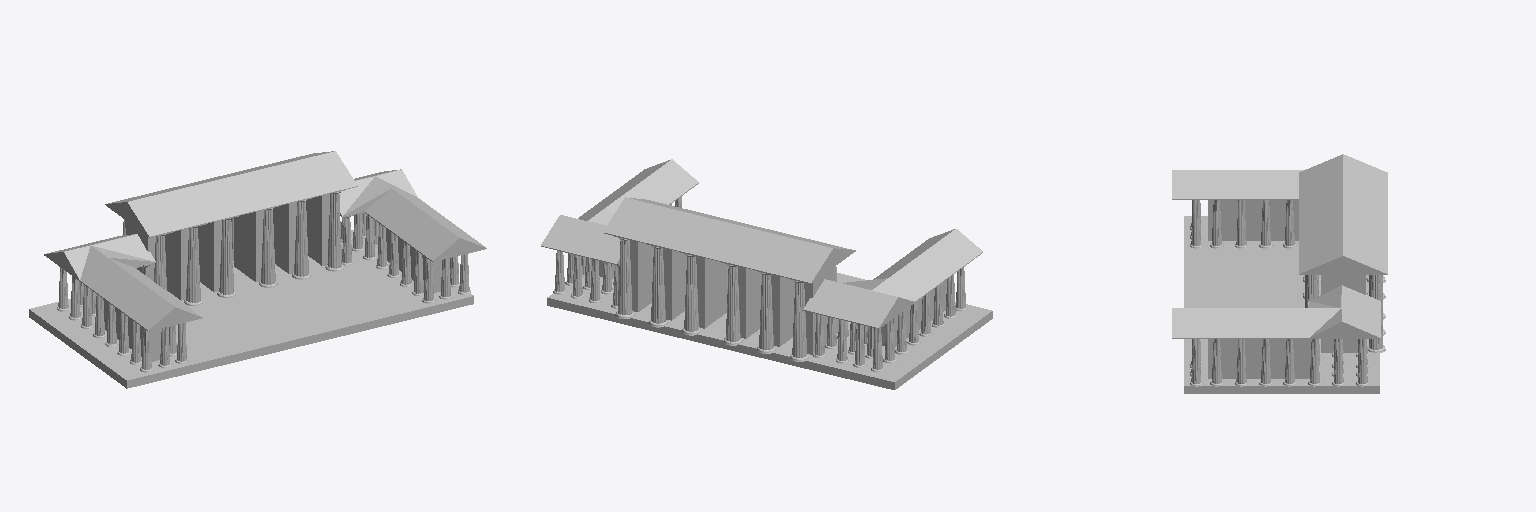
The model's file is Brandenburg.obj.
3 renders of one model, left to right at view 1: azimuth 30°, elevation 25°; view 2: azimuth 150°, elevation 25°; view 3: azimuth 270°, elevation 25°, orthographic.
Parts seen in each view (by area): view 1: Cube.011, Cube; view 2: Cube.011, Cube; view 3: Cube.011, Cube.
Boxes of the visible parts, <box> form: Cube.011: <box>44,151,486,372</box>; Cube: <box>29,230,473,388</box>; Cube.011: <box>541,159,982,371</box>; Cube: <box>547,273,992,389</box>; Cube.011: <box>1172,154,1387,386</box>; Cube: <box>1184,216,1379,393</box>.
Bounding box in the file's own units: 91.66 × 27.02 × 48.39.